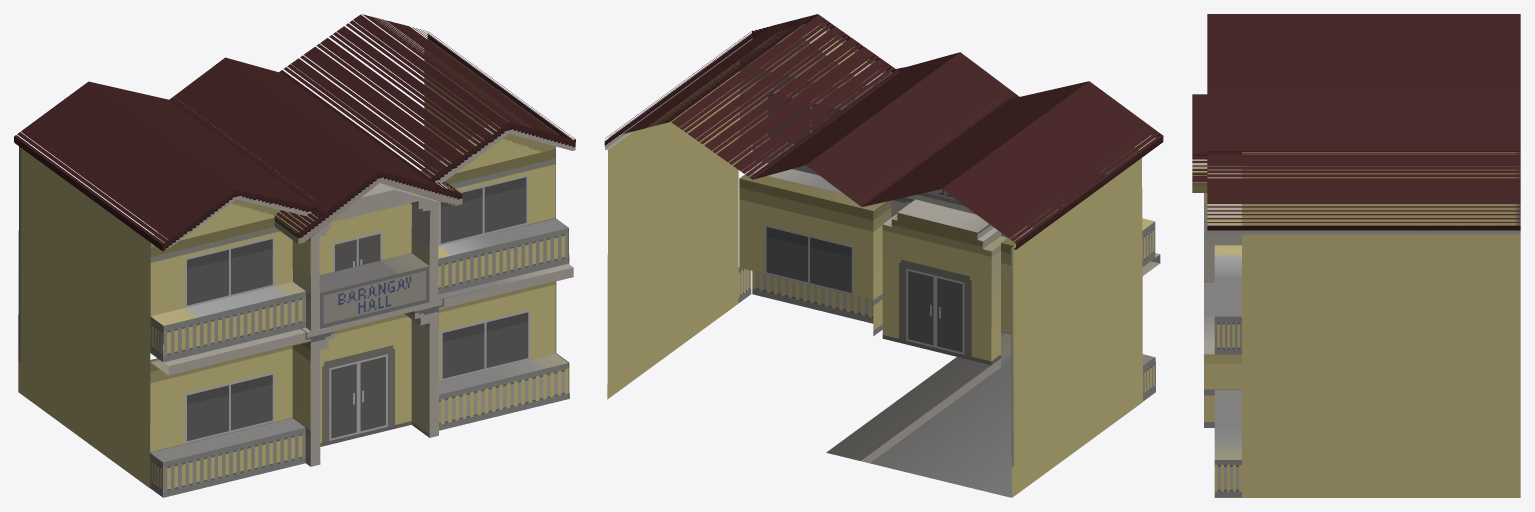
The model's file is BarangayHall.fbx.
3 views of the same model, side by side, from view 1: azimuth 30°, elevation 25°; view 2: azimuth 150°, elevation 25°; view 3: azimuth 270°, elevation 25° (orthographic). The views are drawn at different scales.
Visible parts, largest first — view 1: Plane.003; view 2: Plane.003; view 3: Plane.003.
Part boxes in pixels (bbox=[...]): Plane.003: bbox=[14, 14, 575, 497]; Plane.003: bbox=[604, 14, 1163, 497]; Plane.003: bbox=[1192, 14, 1520, 497].
Size of the model in its own units: 5568 by 3789 by 3618.
1 material, 1 textured.
